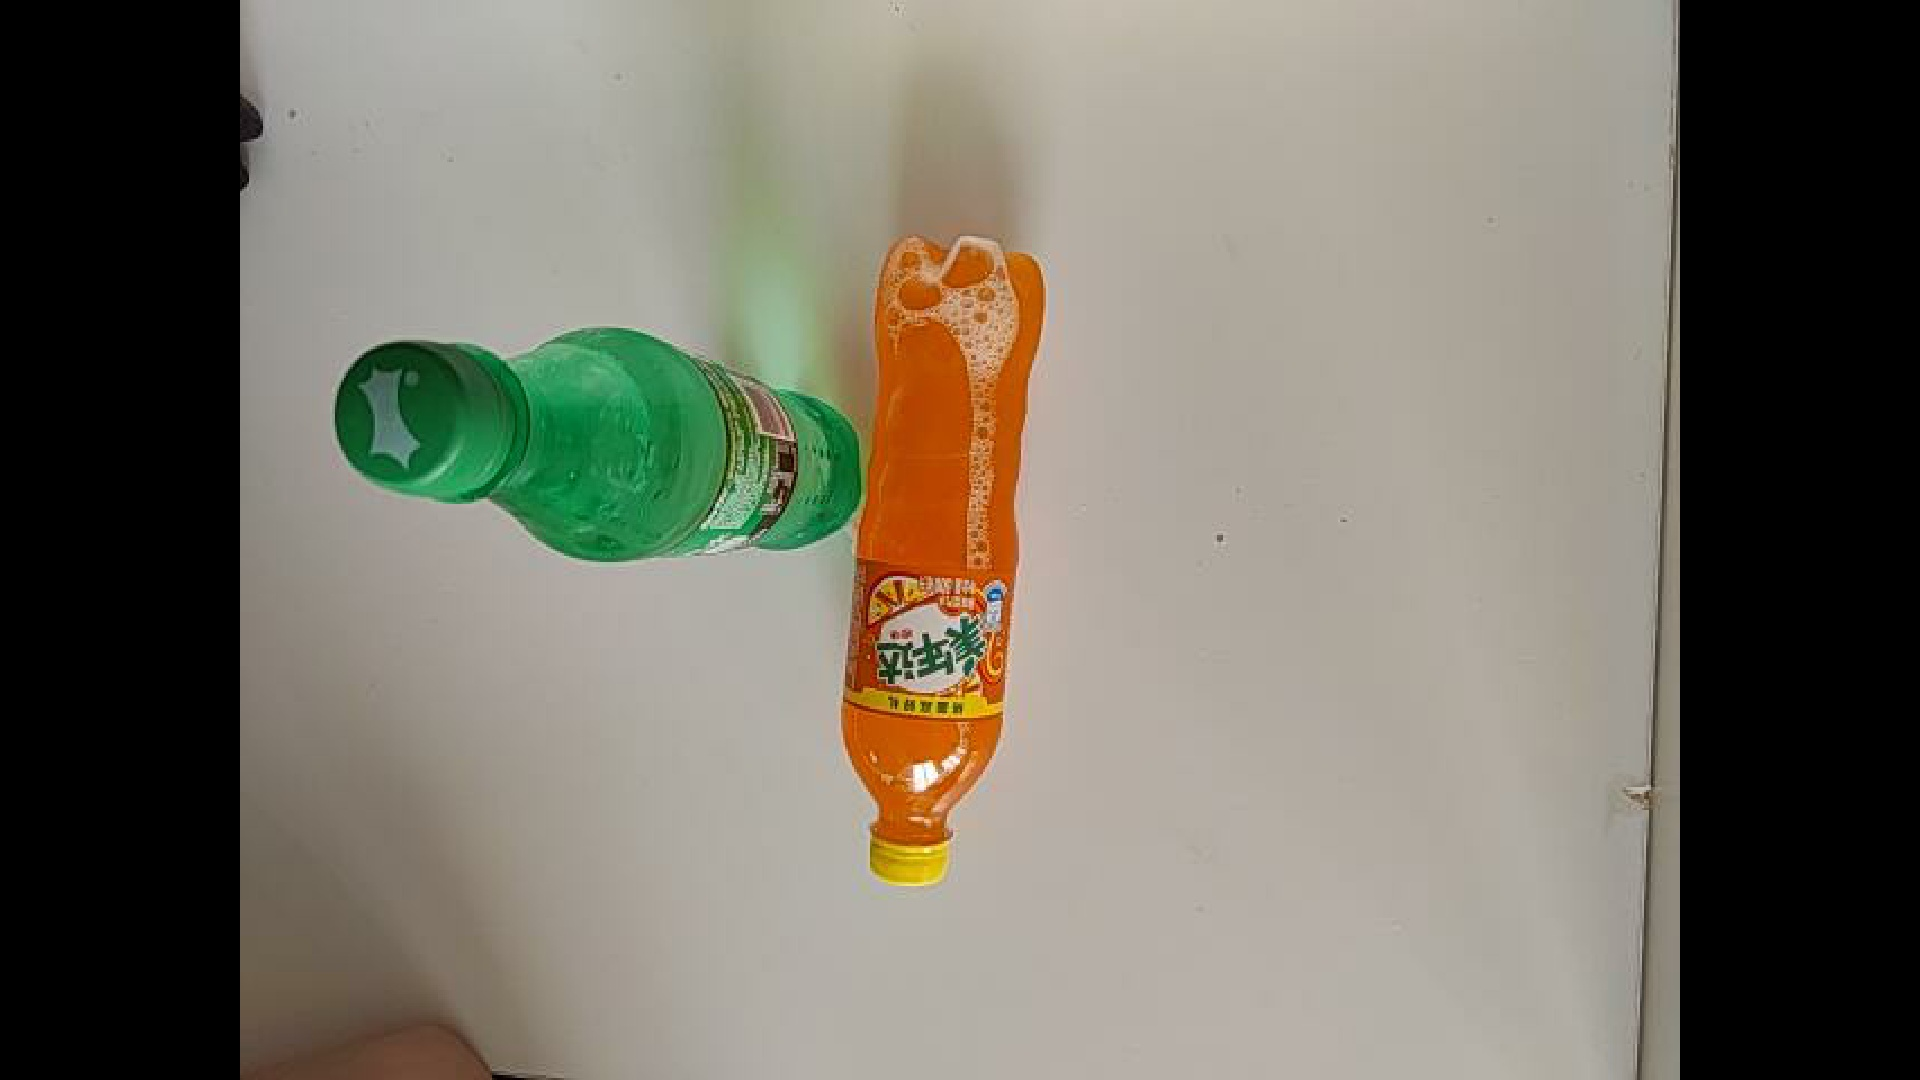fenta: (773, 223, 1054, 889)
sprite: (332, 326, 862, 563)
